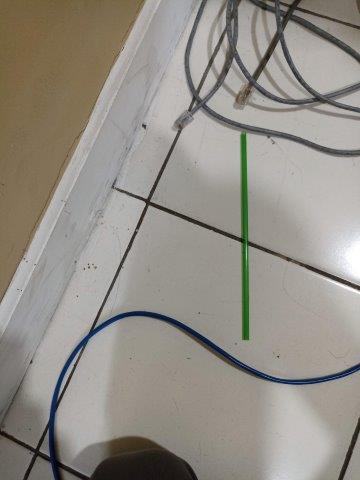sedotan: (241, 131, 249, 340)
